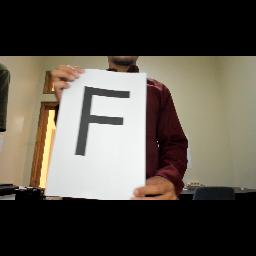f: (72, 81, 132, 161)
